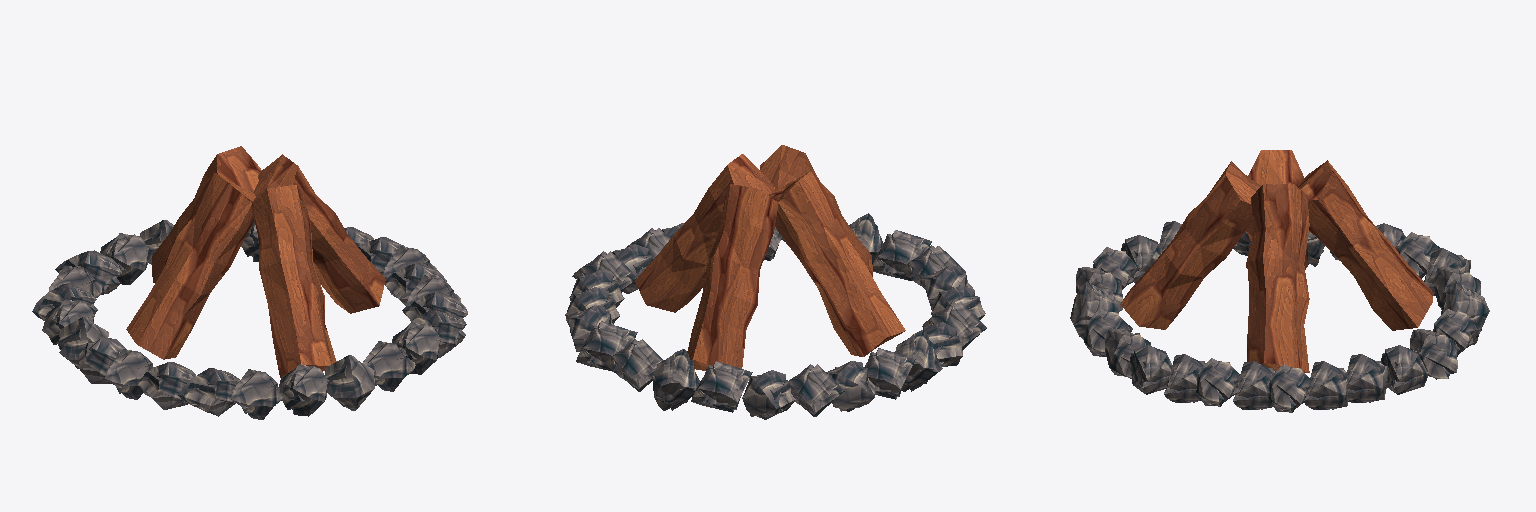
3 views of the same model, side by side, from view 1: azimuth 30°, elevation 25°; view 2: azimuth 150°, elevation 25°; view 3: azimuth 270°, elevation 25° (orthographic).
Visible parts, largest first — view 1: Fire pCylinder6, Fire pCylinder4, Fire pCylinder5, Fire pCylinder3, Fire pSphere28, Fire pSphere27, Fire pSphere37, Fire pSphere38, Fire pSphere36, Fire pSphere26, Fire pSphere30, Fire pSphere18 (+14 smaller); view 2: Fire pCylinder6, Fire pCylinder3, Fire pCylinder5, Fire pCylinder4, Fire pSphere17, Fire pSphere18, Fire pSphere19, Fire pSphere20, Fire pSphere15, Fire pSphere27, Fire pSphere23, Fire pSphere16 (+14 smaller); view 3: Fire pCylinder5, Fire pCylinder3, Fire pCylinder4, pSphere13 Fire, Fire pSphere16, Fire pCylinder6, Fire pSphere22, Fire pSphere14, Fire pSphere29, Fire pSphere33, Fire pSphere24, Fire pSphere32 (+12 smaller).
Boxes of the visible parts, x1=… form: Fire pCylinder6: x1=126, y1=172, x2=255, y2=359; Fire pCylinder4: x1=251, y1=185, x2=336, y2=377; Fire pCylinder5: x1=253, y1=154, x2=385, y2=313; Fire pCylinder3: x1=152, y1=146, x2=261, y2=282; Fire pSphere28: x1=325, y1=355, x2=375, y2=410; Fire pSphere27: x1=279, y1=364, x2=328, y2=416; Fire pSphere37: x1=178, y1=368, x2=239, y2=416; Fire pSphere38: x1=231, y1=369, x2=283, y2=419; Fire pSphere36: x1=138, y1=362, x2=195, y2=409; Fire pSphere26: x1=363, y1=341, x2=415, y2=391; Fire pSphere30: x1=392, y1=322, x2=440, y2=374; Fire pSphere18: x1=100, y1=233, x2=148, y2=284; Fire pCylinder6: x1=769, y1=170, x2=905, y2=356; Fire pCylinder3: x1=687, y1=184, x2=778, y2=370; Fire pCylinder5: x1=635, y1=154, x2=774, y2=312; Fire pCylinder4: x1=760, y1=145, x2=872, y2=276; Fire pSphere17: x1=652, y1=349, x2=699, y2=410; Fire pSphere18: x1=691, y1=361, x2=752, y2=412; Fire pSphere19: x1=742, y1=370, x2=795, y2=419; Fire pSphere20: x1=789, y1=364, x2=844, y2=416; Fire pSphere15: x1=604, y1=339, x2=663, y2=391; Fire pSphere27: x1=872, y1=230, x2=931, y2=280; Fire pSphere23: x1=864, y1=348, x2=915, y2=399; Fire pSphere16: x1=576, y1=321, x2=637, y2=371; Fire pCylinder5: x1=1247, y1=184, x2=1309, y2=372; Fire pCylinder3: x1=1298, y1=160, x2=1433, y2=330; Fire pCylinder4: x1=1120, y1=161, x2=1260, y2=329; pSphere13 Fire: x1=1346, y1=354, x2=1388, y2=402; Fire pSphere16: x1=1410, y1=329, x2=1457, y2=379; Fire pCylinder6: x1=1246, y1=150, x2=1307, y2=269; Fire pSphere22: x1=1304, y1=361, x2=1348, y2=409; Fire pSphere14: x1=1381, y1=345, x2=1428, y2=394; Fire pSphere29: x1=1128, y1=345, x2=1171, y2=394; Fire pSphere33: x1=1196, y1=358, x2=1240, y2=406; Fire pSphere24: x1=1269, y1=364, x2=1310, y2=412; Fire pSphere32: x1=1233, y1=361, x2=1274, y2=409.
Bounding box in the file's own units: 3.45 × 1.56 × 3.37.
2 materials, 2 textured.